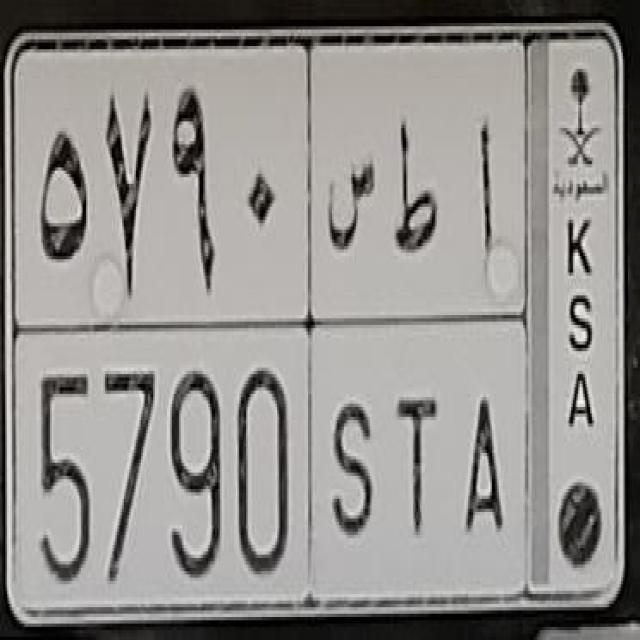license_plate: (8, 28, 625, 623)
